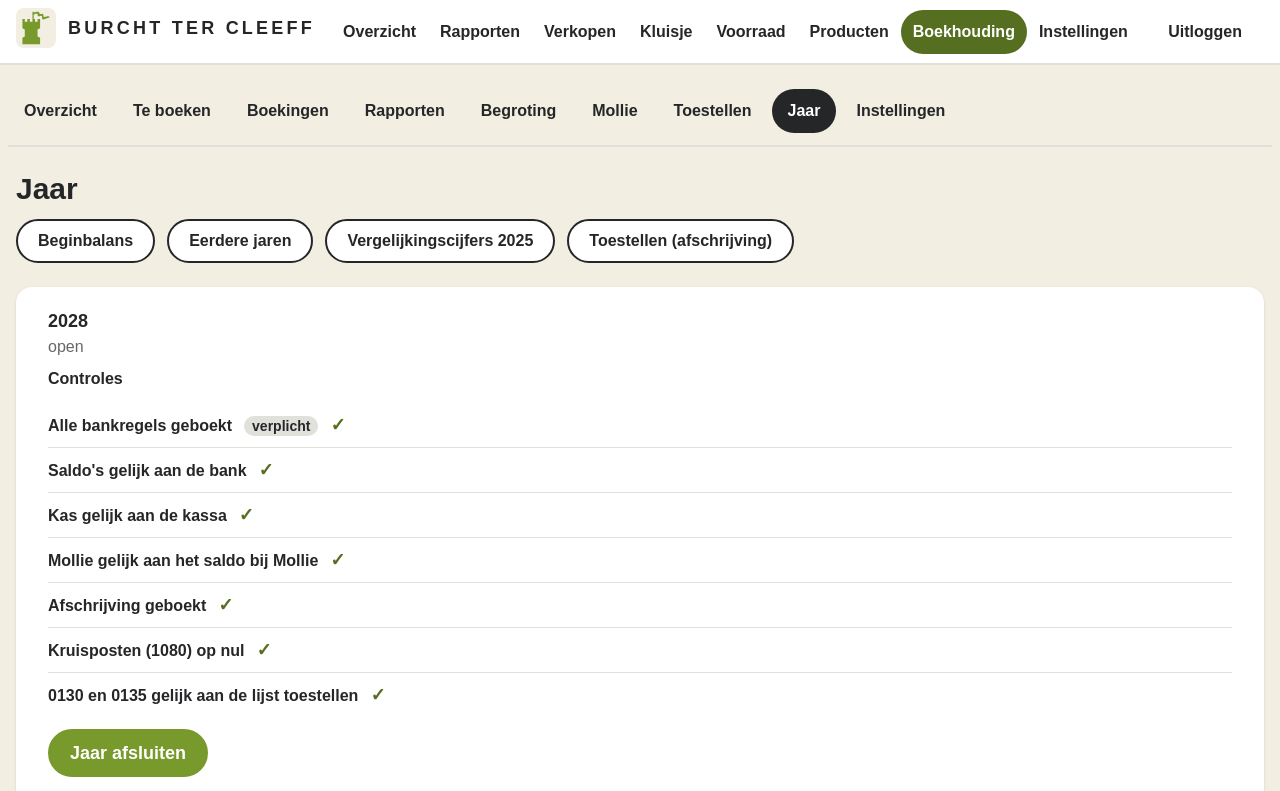
Scenario: says why closing was refused
What coordinates should you click on to do the following:
click the button "Jaar afsluiten"
I would click on:
 (128, 753)
Its box is [48, 729, 208, 777].
(page scrolled)
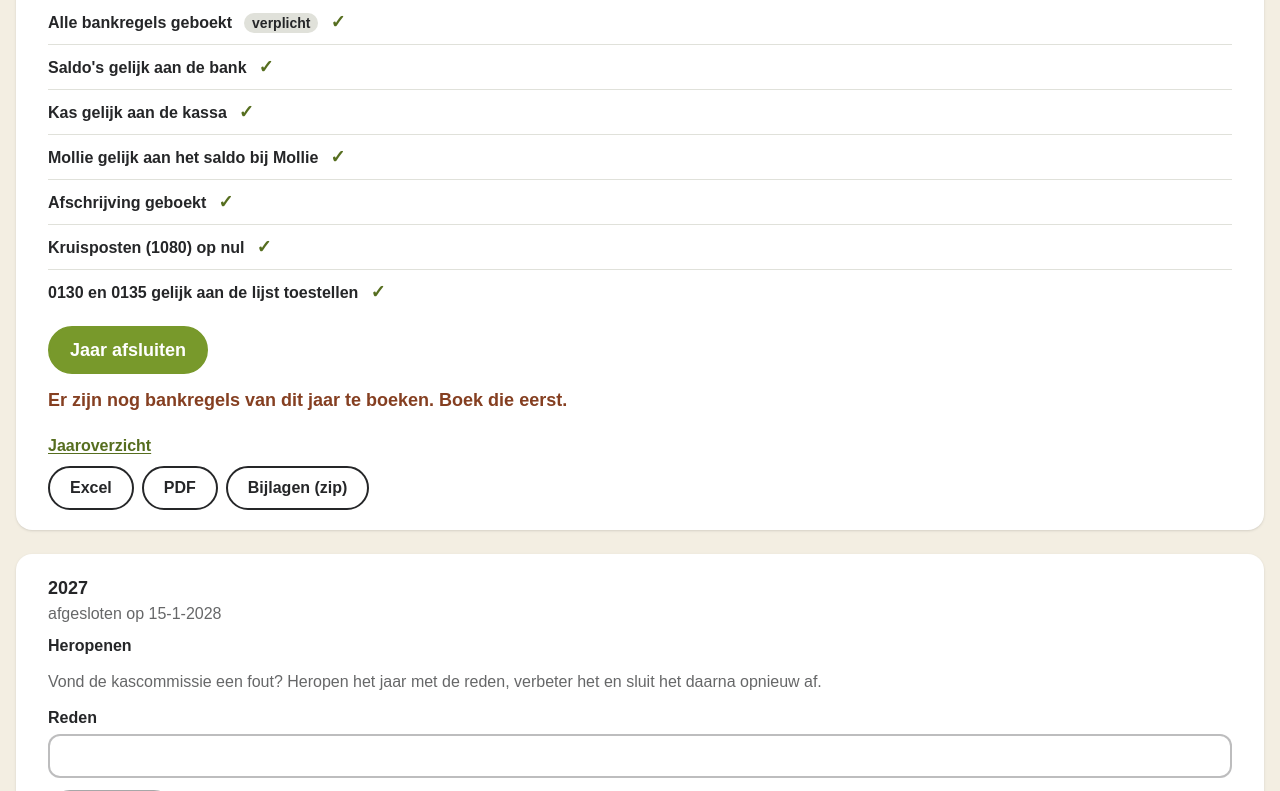
Now the text "Er zijn nog bankregels van dit jaar te boeken. Boek die eerst." is shown, box [48, 390, 567, 410]
